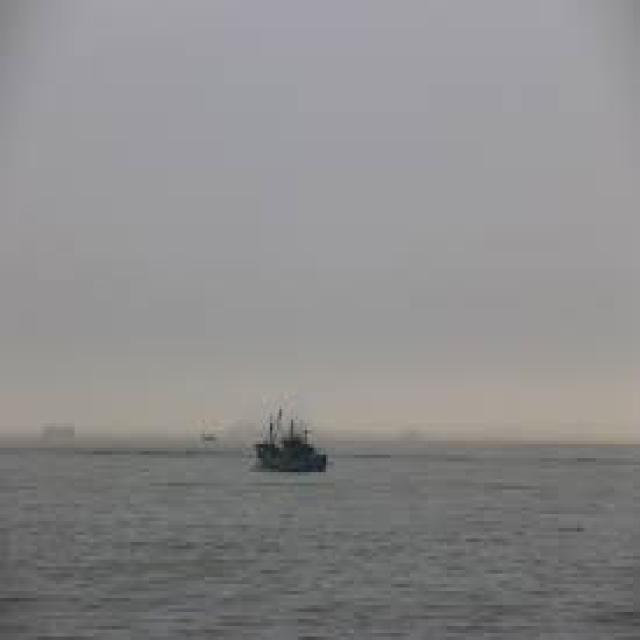fishing boat: (247, 402, 327, 472)
